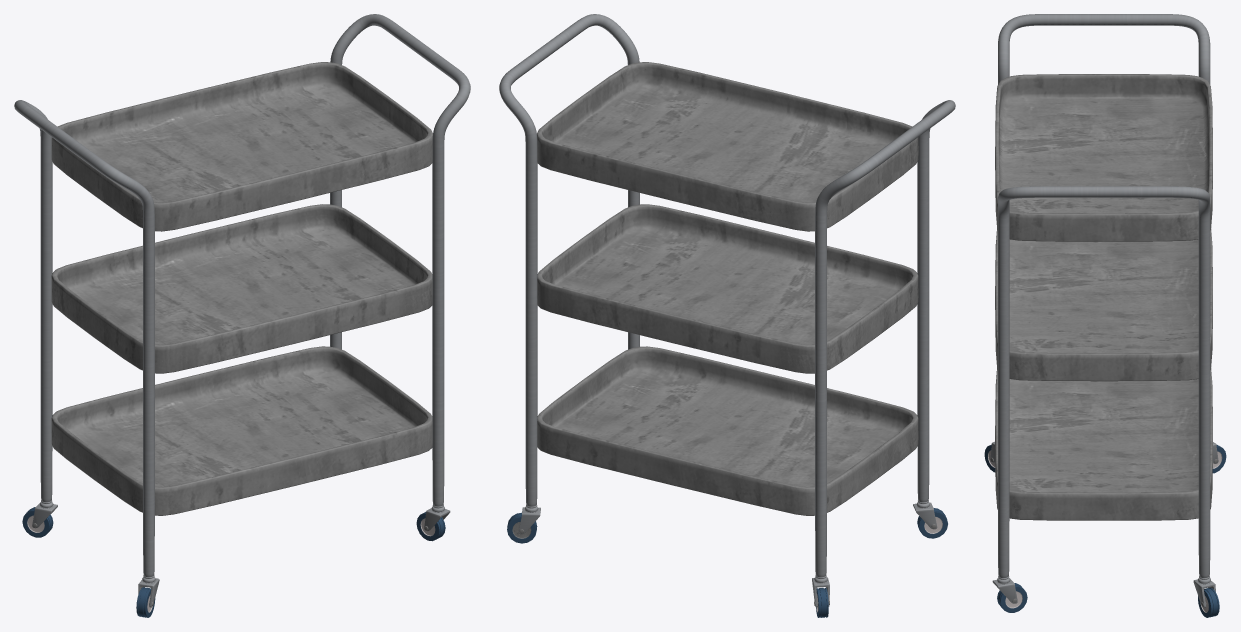
3 views of the same model, side by side, from view 1: azimuth 30°, elevation 25°; view 2: azimuth 150°, elevation 25°; view 3: azimuth 270°, elevation 25° (orthographic).
Visible parts, largest first — view 1: Circle.007_Medical_Props_Surgical_Cart_0; view 2: Circle.007_Medical_Props_Surgical_Cart_0; view 3: Circle.007_Medical_Props_Surgical_Cart_0.
Boxes of the visible parts, <box> form: Circle.007_Medical_Props_Surgical_Cart_0: <box>14,14,470,617</box>; Circle.007_Medical_Props_Surgical_Cart_0: <box>499,14,955,617</box>; Circle.007_Medical_Props_Surgical_Cart_0: <box>984,14,1226,617</box>.
Size of the model in its own units: 2.09 by 2.43 by 1.2.
1 material, 1 textured.
